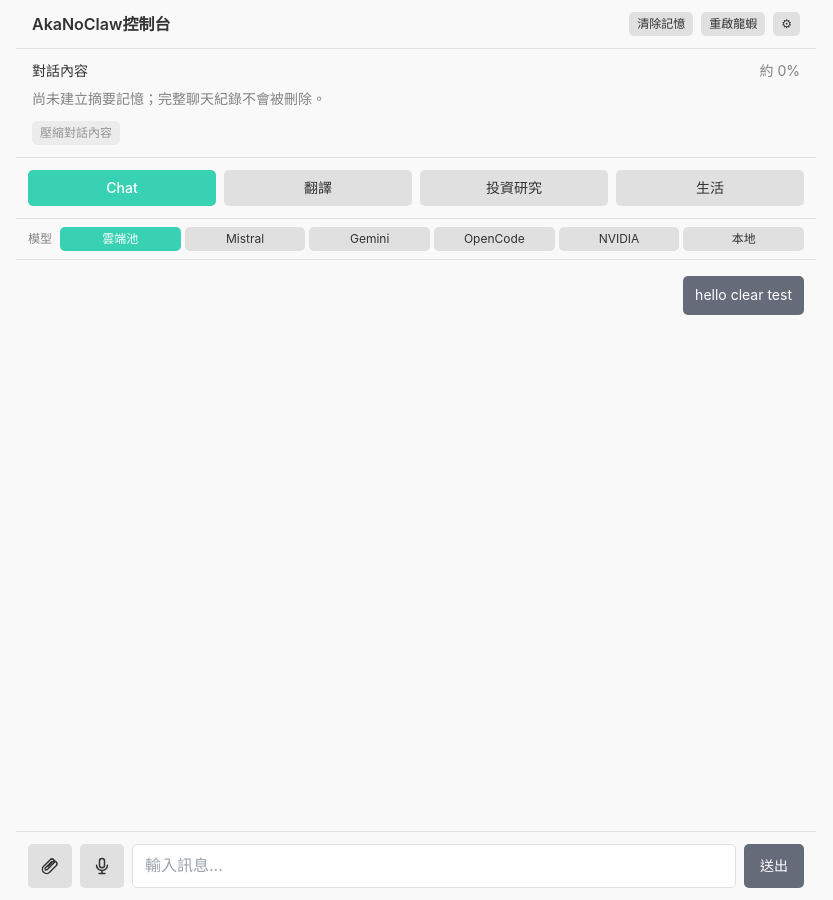
Test: App — clear memory (#2) › shows confirm buttons when 清除記憶 is clicked
The width and height of the screenshot is (833, 900).
Check: the text "hello clear test" is shown, box [683, 276, 804, 315]
Click the button "清除記憶". click: [661, 24]
box: [629, 12, 693, 36]
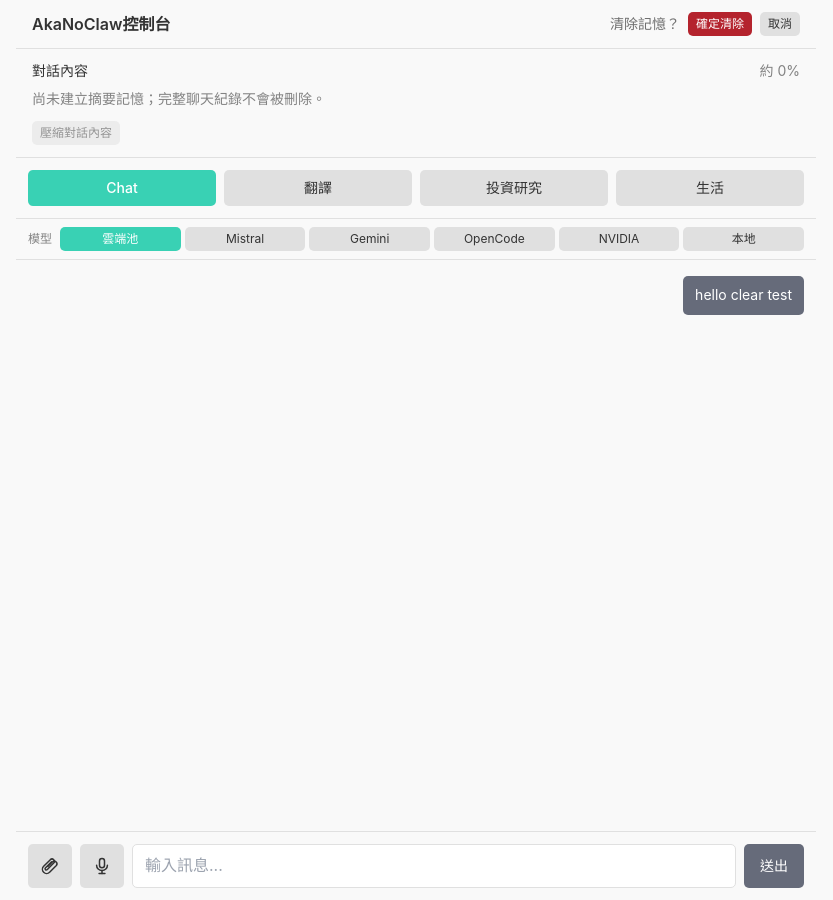
Check: the button "確定清除" is shown, box [688, 12, 752, 36]
Check: the button "取消" is shown, box [760, 12, 800, 36]
